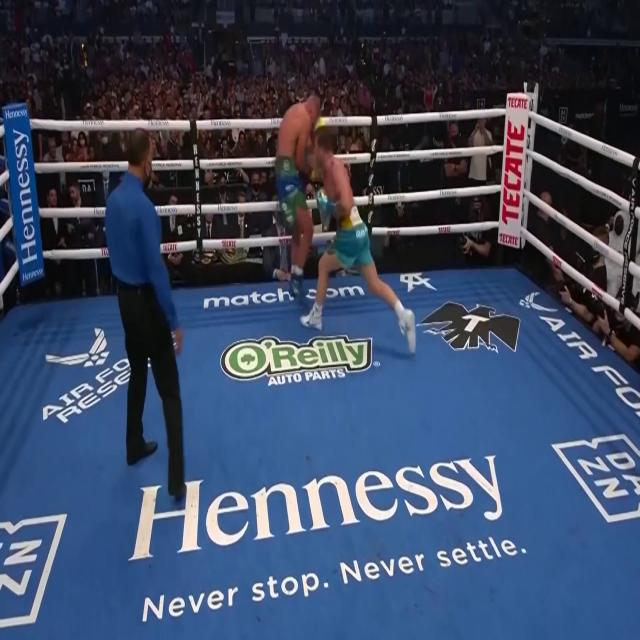boxer_1: (276, 90, 322, 176)
boxer_2: (313, 126, 362, 232)
gloves_1: (311, 169, 316, 179), (314, 123, 323, 127)
gloves_2: (316, 189, 338, 224)
